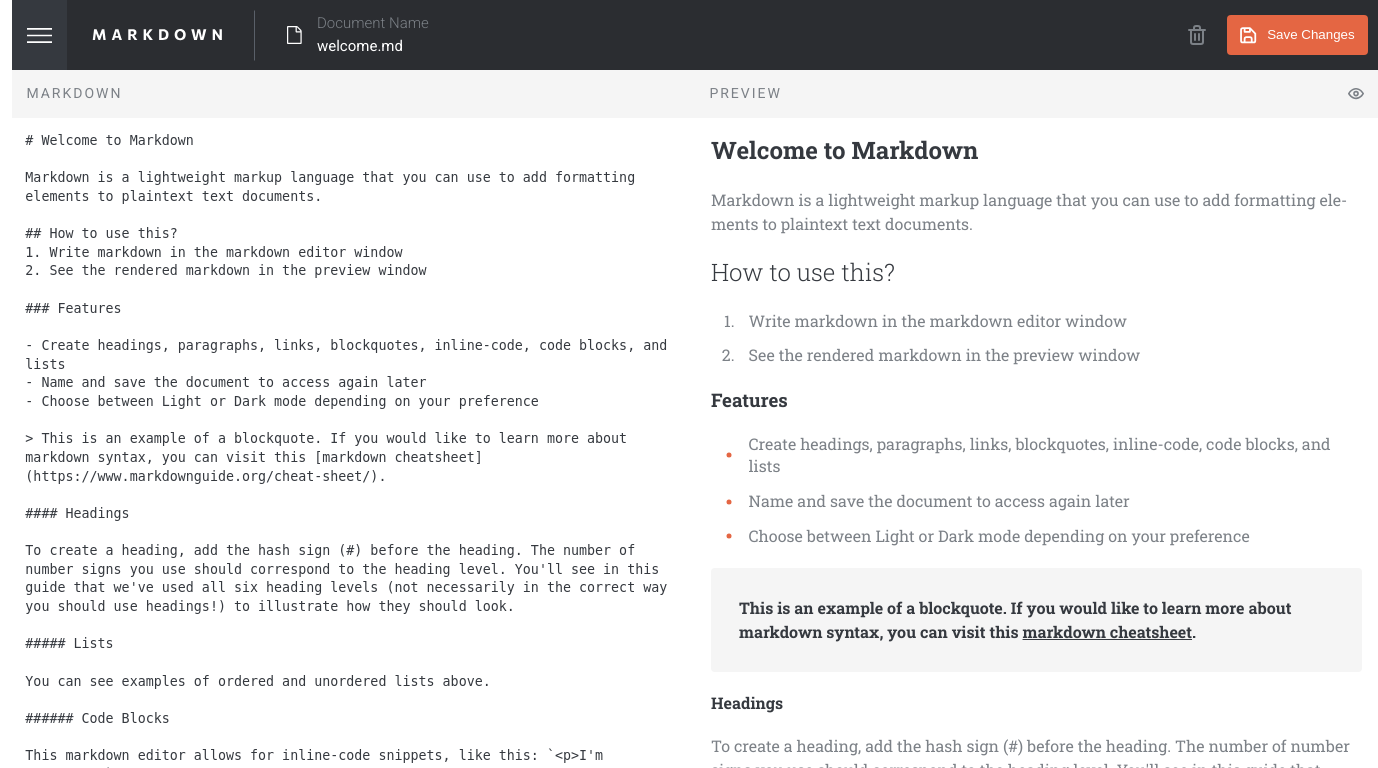
Scenario: testing markdown syntax › ordered list rendered
This screenshot has width=1378, height=768.
Focus the text box with test id "markdownTextArea" at [354, 443], box left=12, top=118, right=695, bottom=767
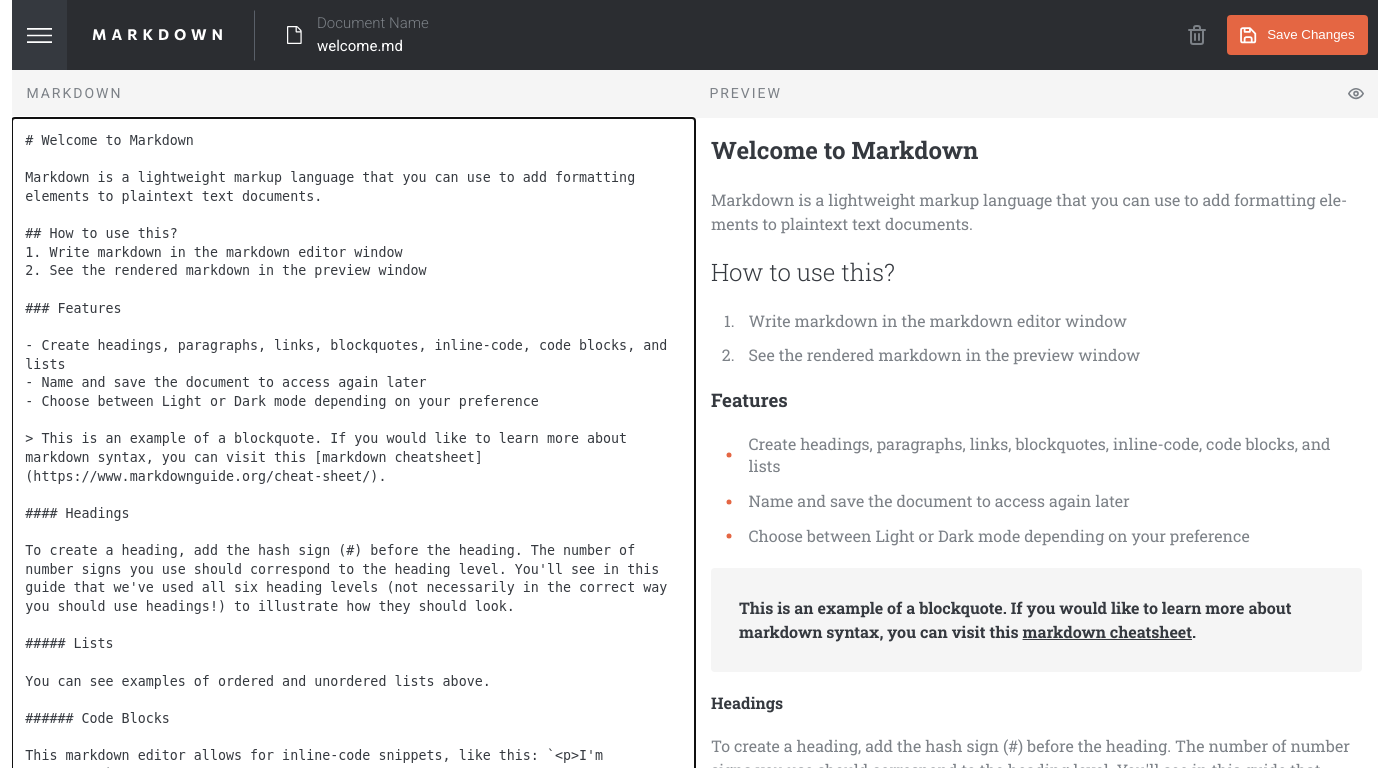
Press Selectall Backspace in the text box with test id "markdownTextArea", box left=12, top=118, right=695, bottom=767
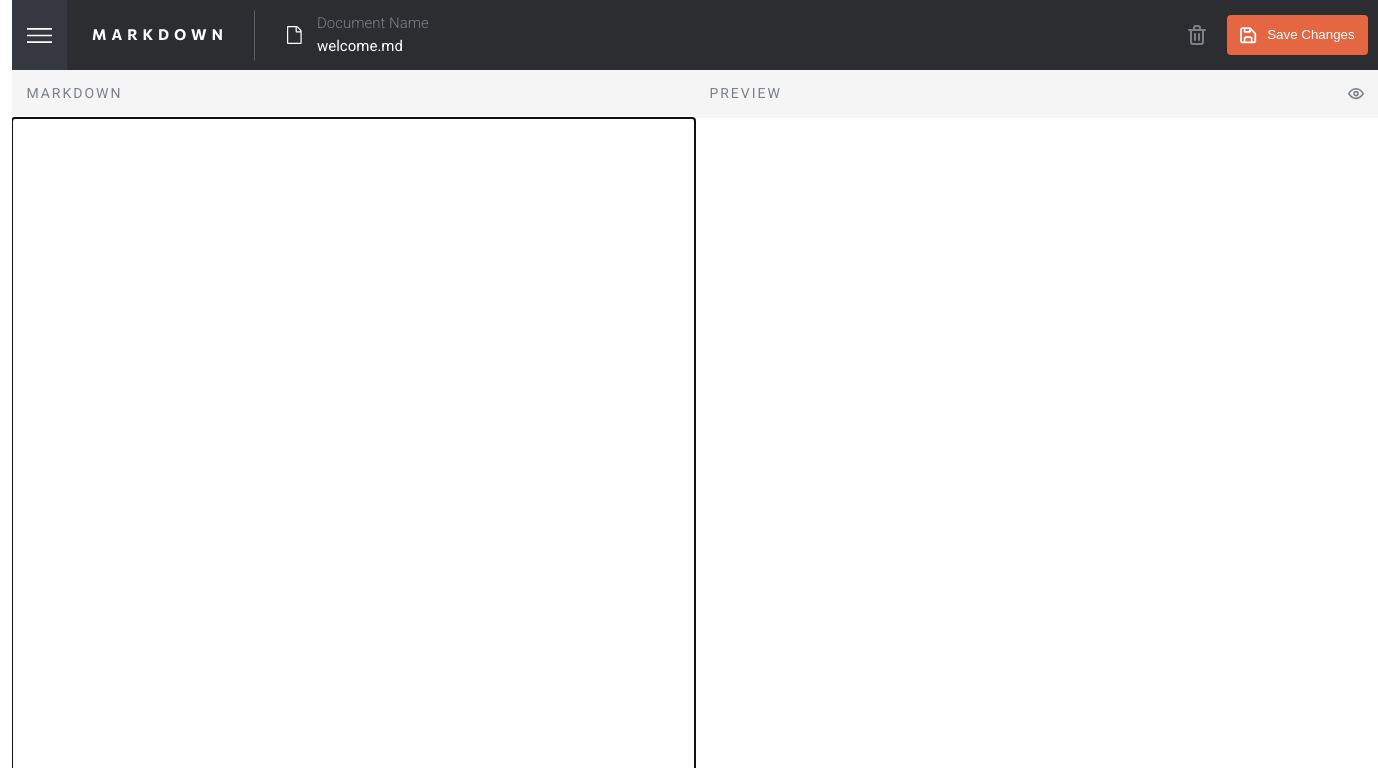
Type "1. First item" into the text box with test id "markdownTextArea".
click(354, 443); type("1. First item")  # box left=12, top=118, right=695, bottom=767
Then press Enter
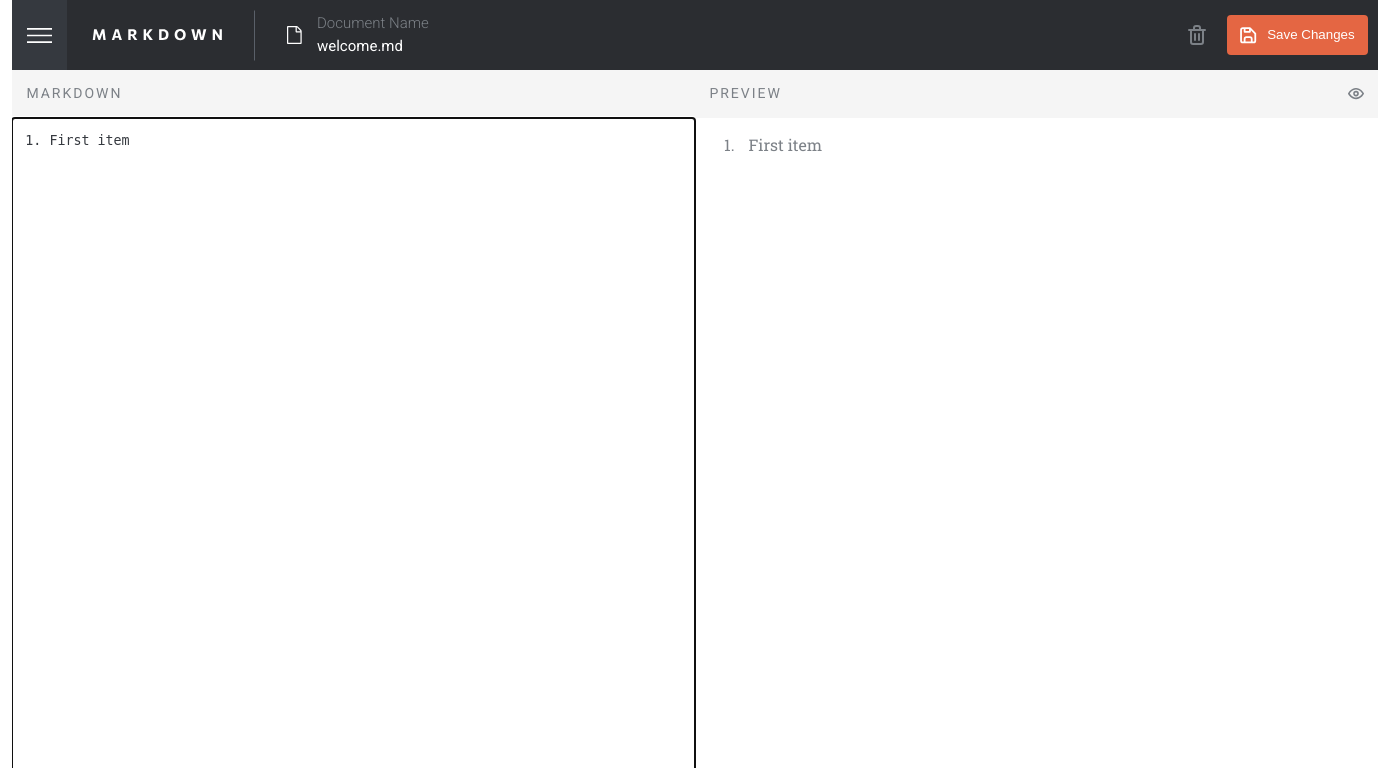
Type "2. Second item" into the text box with test id "markdownTextArea".
click(354, 443); type("2. Second item")  # box left=12, top=118, right=695, bottom=767
Then press Enter
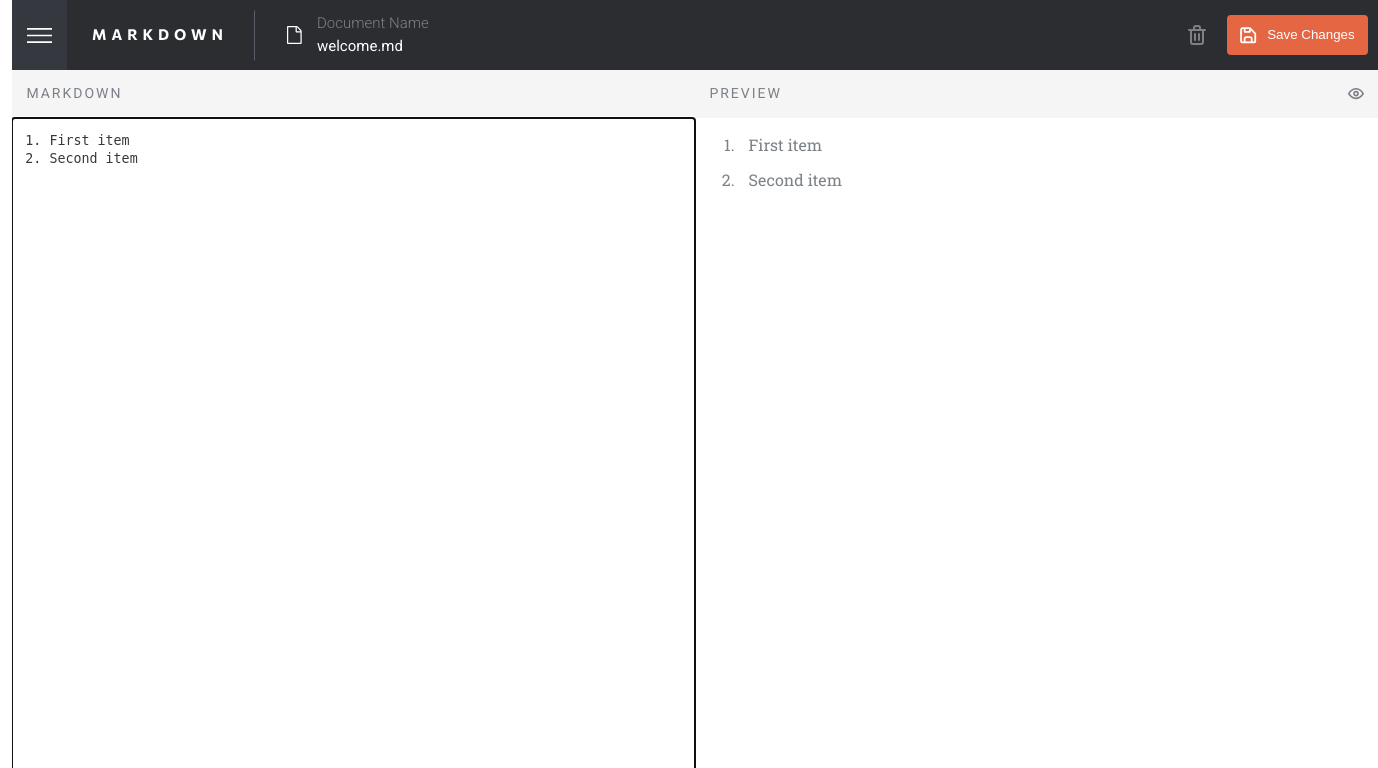
Type "3. Third item" into the text box with test id "markdownTextArea".
click(354, 443); type("3. Third item")  # box left=12, top=118, right=695, bottom=767
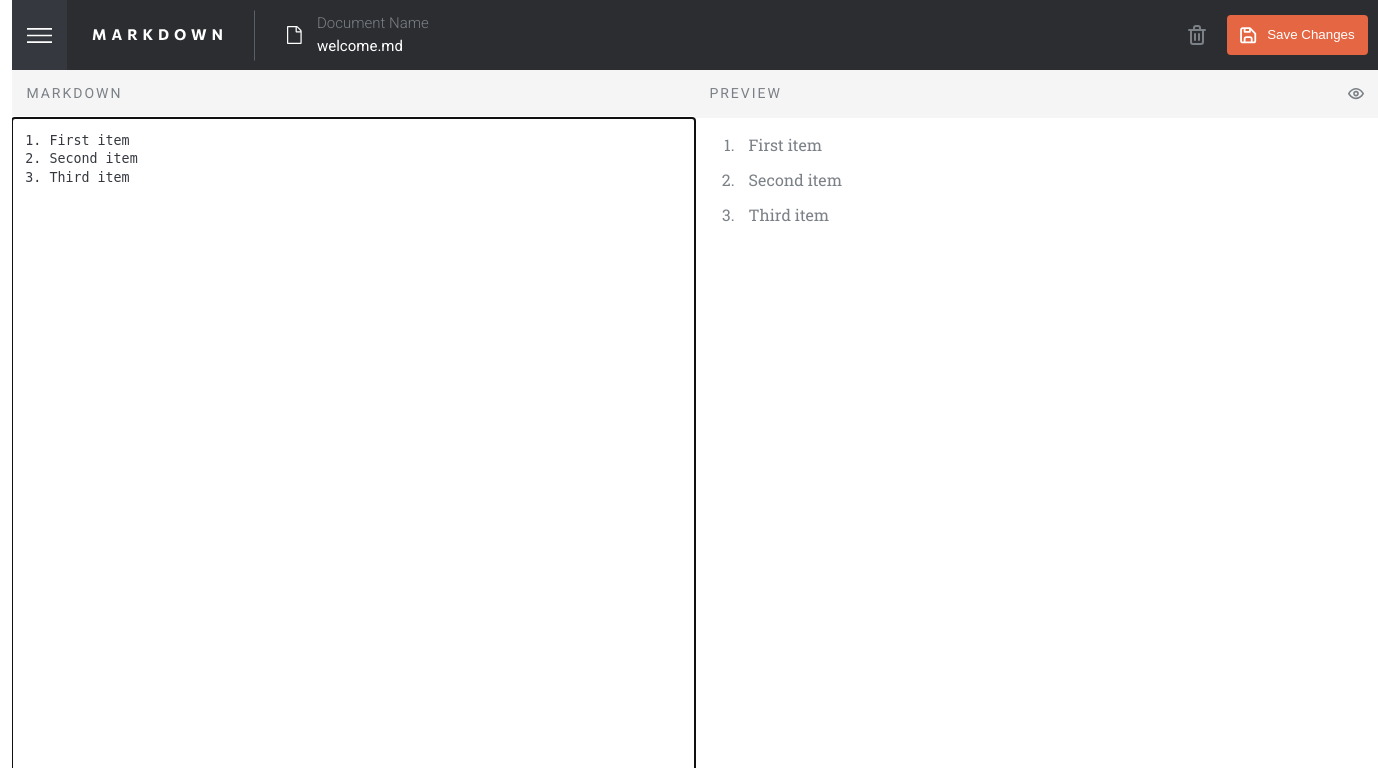
Expected: the list item "First item" is shown, left=748, top=134, right=822, bottom=155
Expected: the number of list items is 3, left=748, top=134, right=822, bottom=155; left=748, top=169, right=842, bottom=190; left=748, top=204, right=829, bottom=225
